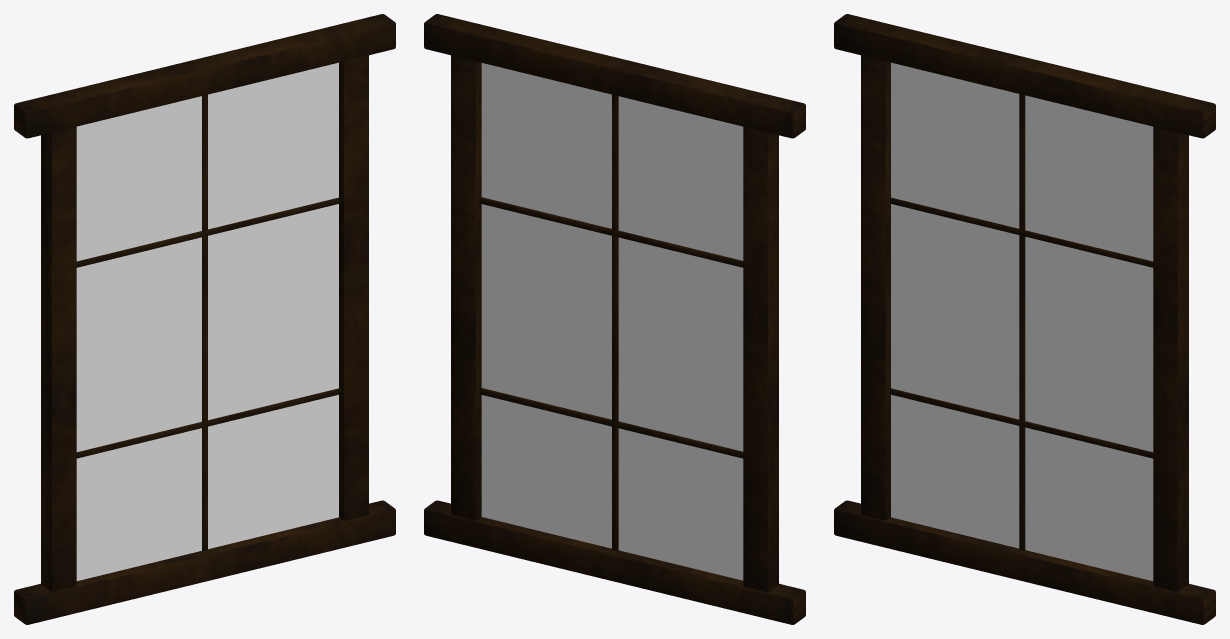
File: Window frame V2.FBX
3 views of the same model, side by side, from view 1: azimuth 30°, elevation 25°; view 2: azimuth 150°, elevation 25°; view 3: azimuth 330°, elevation 25° (orthographic).
Visible parts, largest first — view 1: Window frame; view 2: Window frame; view 3: Window frame.
Part boxes in pixels (x1=…): Window frame: x1=14, y1=14, x2=395, y2=624; Window frame: x1=424, y1=14, x2=805, y2=624; Window frame: x1=834, y1=14, x2=1215, y2=624.
Size of the model in its own units: 140 by 186 by 8.61.
2 materials, 1 textured.
